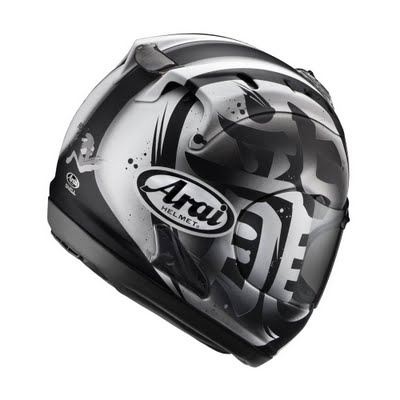helmet: (63, 32, 344, 336)
